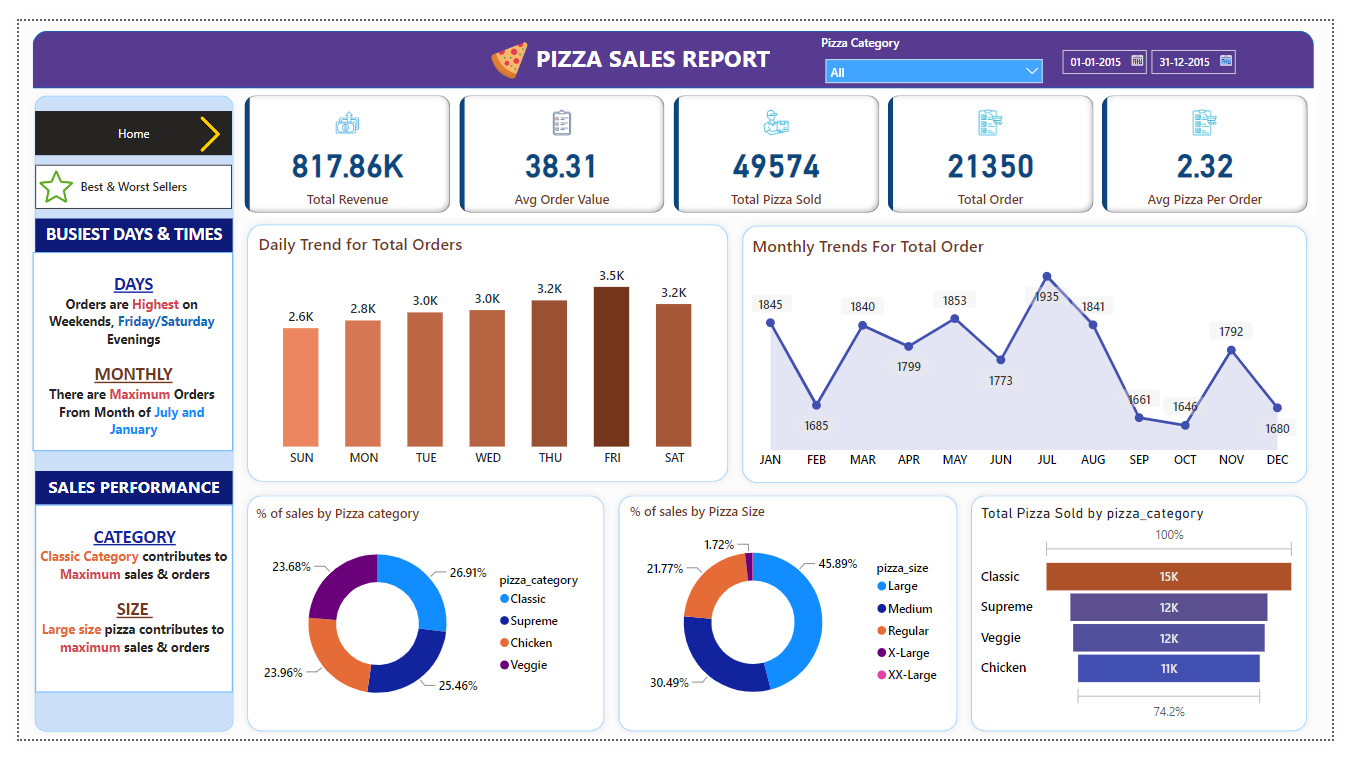

Layout of this report page (visuals, bound fields, positions):
{"tool":"powerbi","page":{"name":"Home","canvas":[1500,820],"ordinal":0},"visuals":[{"type":"shape","box":[10,77.1,242.9,742.9],"z":0},{"type":"cardVisual","fields":{"Data":["pizza_sales.Total Revenue","pizza_sales.Avg Order Value","pizza_sales.Total Pizza Sold","pizza_sales.Total Order","pizza_sales.Avg Pizza Per Order"]},"box":[252.9,80,1227.1,144.3],"z":1000},{"type":"shape","box":[15.7,11.4,1464.3,65.7],"z":2000},{"type":"textbox","box":[585.7,18.6,324.3,68.6],"z":3000},{"type":"image","box":[522.9,18.6,74.3,52.9],"z":4000},{"type":"shape","box":[252.9,224.3,565.7,310],"z":5000},{"type":"columnChart","title":"Daily Trend for Total Orders","fields":{"Category":["pizza_sales.Order day"],"Y":["pizza_sales.Total Order"]},"box":[268.6,241.4,535.7,277.1],"z":6000},{"type":"shape","box":[818.6,225.7,661.4,310],"z":7000},{"type":"areaChart","title":"Monthly Trends For Total Order","fields":{"Y":["pizza_sales.Total Order"],"Category":["pizza_sales.Order month"]},"box":[832.9,244.3,631.4,277.1],"z":8000},{"type":"shape","box":[252.9,534.3,424.3,285.7],"z":9000},{"type":"shape","box":[677.1,534.3,402.9,285.7],"z":10000},{"type":"shape","box":[1080,534.3,400,285.7],"z":11000},{"type":"donutChart","title":"% of sales by Pizza category ","fields":{"Category":["pizza_sales.pizza_category"],"Y":["pizza_sales.Total Revenue"]},"box":[265.7,551.4,400,254.3],"z":12000},{"type":"donutChart","title":"% of sales by Pizza Size","fields":{"Y":["pizza_sales.Total Revenue"],"Category":["pizza_sales.pizza_size"]},"box":[692.9,550,374.3,254.3],"z":13000},{"type":"funnel","fields":{"Category":["pizza_sales.pizza_category"],"Y":["pizza_sales.Total Pizza Sold"]},"box":[1094.3,551.4,370,252.9],"z":14000},{"type":"textbox","box":[18.6,225.7,225.7,38.6],"z":15000},{"type":"textbox","box":[15.7,264.3,228.6,227.1],"z":16000},{"type":"textbox","box":[18.6,514.3,225.7,38.6],"z":17000},{"type":"textbox","box":[18.6,552.9,225.7,214.3],"z":18000},{"type":"slicer","title":"Pizza Category","fields":{"Values":["pizza_sales.pizza_category"]},"box":[911.4,15.7,268.6,58.6],"z":19000},{"type":"slicer","title":"Pizza Category","fields":{"Values":["pizza_sales.order_date"]},"box":[1180,22.9,222.9,57.1],"z":20000},{"type":"pageNavigator","box":[18.6,102.9,225.7,50],"z":21000},{"type":"pageNavigator","box":[18.6,164.3,225.7,50],"z":22000},{"type":"image","box":[192.9,102.9,51.4,52.9],"z":23000},{"type":"image","box":[18.6,162.9,48.6,52.9],"z":24000}]}

Visuals, with their boxes in screenshot pixels (x1, y1, x2, y2), scaled from the page's 1500x820 canvas onto the 1355x759 screenshot:
shape: locate(9, 71, 228, 758)
cardVisual - pizza_sales.Total Revenue x pizza_sales.Avg Order Value: locate(228, 74, 1337, 208)
shape: locate(14, 11, 1337, 71)
textbox: locate(529, 17, 822, 81)
image: locate(472, 17, 539, 66)
shape: locate(228, 208, 739, 495)
"Daily Trend for Total Orders" columnChart: locate(243, 223, 727, 480)
shape: locate(739, 209, 1337, 496)
"Monthly Trends For Total Order" areaChart: locate(752, 226, 1323, 483)
shape: locate(228, 495, 612, 758)
shape: locate(612, 495, 976, 758)
shape: locate(976, 495, 1337, 758)
"% of sales by Pizza category " donutChart: locate(240, 510, 601, 746)
"% of sales by Pizza Size" donutChart: locate(626, 509, 964, 744)
funnel - pizza_sales.pizza_category x pizza_sales.Total Pizza Sold: locate(989, 510, 1323, 744)
textbox: locate(17, 209, 221, 245)
textbox: locate(14, 245, 221, 455)
textbox: locate(17, 476, 221, 512)
textbox: locate(17, 512, 221, 710)
"Pizza Category" slicer: locate(823, 15, 1066, 69)
"Pizza Category" slicer: locate(1066, 21, 1267, 74)
pageNavigator: locate(17, 95, 221, 142)
pageNavigator: locate(17, 152, 221, 198)
image: locate(174, 95, 221, 144)
image: locate(17, 151, 61, 200)
